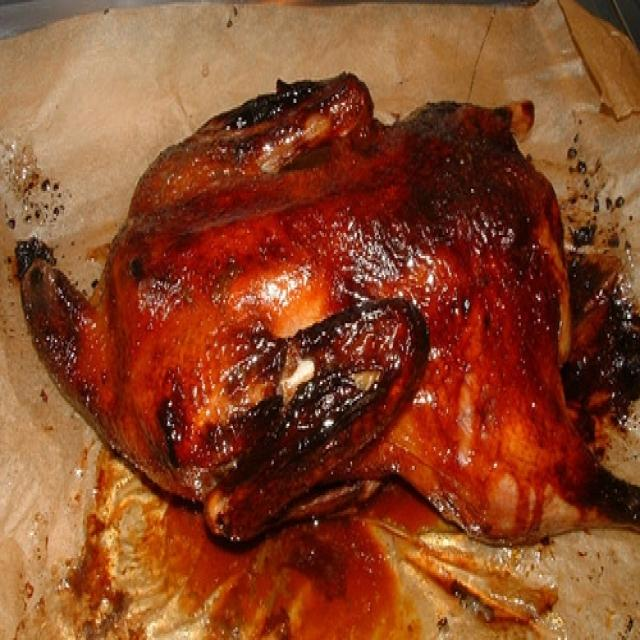烧串烤肉: (18, 42, 623, 602)
